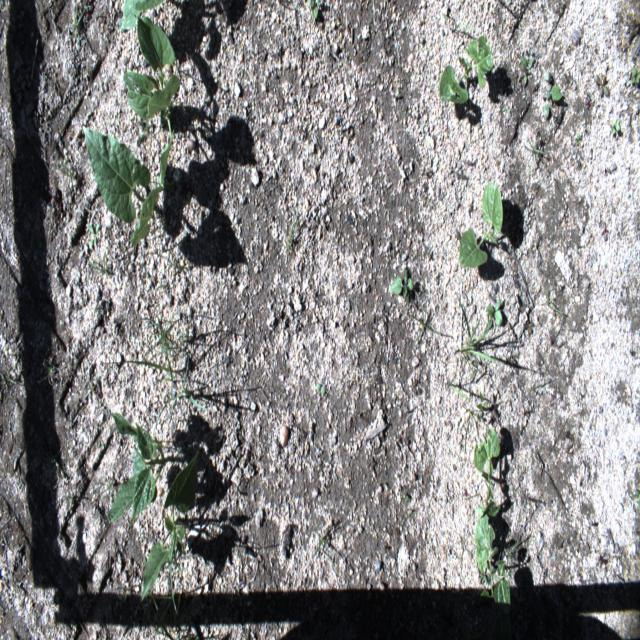crop: (82, 124, 174, 246), (140, 445, 200, 618), (123, 15, 180, 138), (107, 412, 166, 528), (475, 512, 513, 615), (459, 181, 503, 269), (439, 37, 493, 103), (474, 426, 501, 517), (119, 0, 163, 30)
weed: (99, 308, 211, 436), (448, 292, 507, 401), (310, 522, 340, 578), (464, 388, 489, 454), (406, 303, 442, 341), (524, 134, 551, 174), (390, 268, 414, 308), (36, 356, 66, 386), (542, 84, 562, 122), (485, 299, 503, 330), (520, 55, 535, 88), (286, 218, 298, 255), (594, 75, 610, 99), (87, 223, 100, 252), (307, 0, 320, 21), (610, 118, 621, 134), (631, 66, 639, 84), (316, 381, 326, 395)
